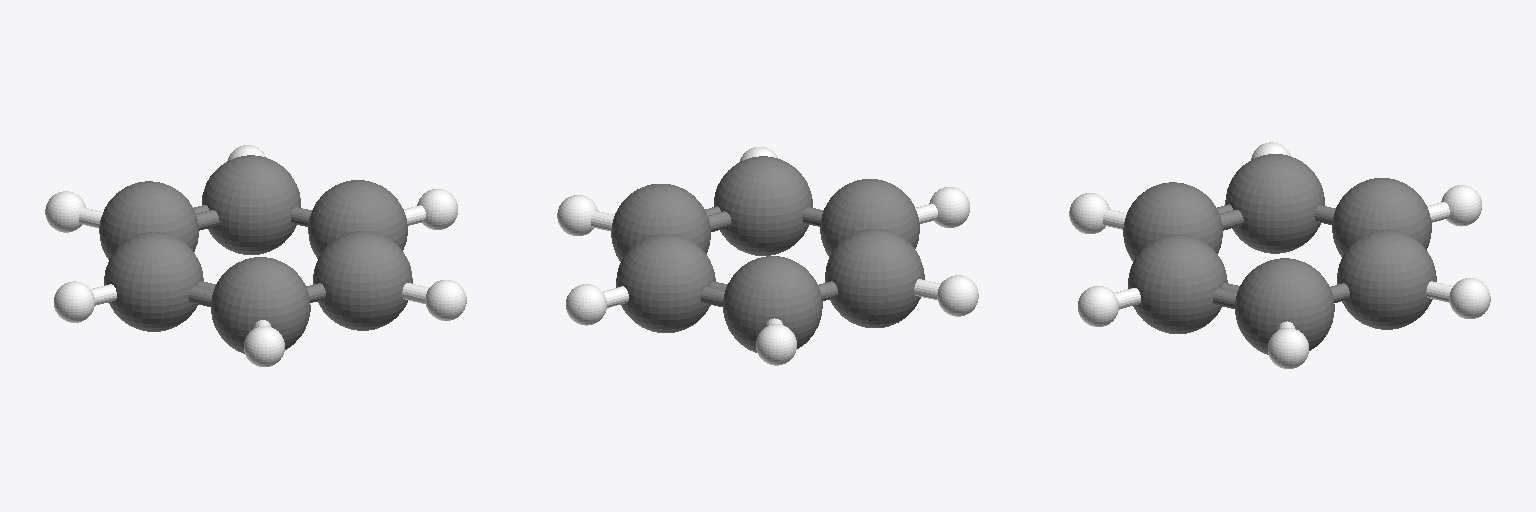
File: Benzine.obj
3 views of the same model, side by side, from view 1: azimuth 30°, elevation 25°; view 2: azimuth 150°, elevation 25°; view 3: azimuth 270°, elevation 25° (orthographic).
Visible parts, largest first — view 1: Carbon_ball.017, Hydrogen_ball.016, Hydrogen_sticks_cylinder.016, Carbon_sticks_cylinder.017; view 2: Carbon_ball.017, Hydrogen_ball.016, Hydrogen_sticks_cylinder.016, Carbon_sticks_cylinder.017; view 3: Carbon_ball.017, Hydrogen_ball.016, Hydrogen_sticks_cylinder.016, Carbon_sticks_cylinder.017.
Boxes of the visible parts, box(x1,y1,x2,y2) form: Carbon_ball.017: box(99, 155, 412, 353); Hydrogen_ball.016: box(45, 145, 466, 366); Hydrogen_sticks_cylinder.016: box(79, 205, 428, 327); Carbon_sticks_cylinder.017: box(188, 205, 325, 306); Carbon_ball.017: box(611, 156, 924, 352); Hydrogen_ball.016: box(557, 147, 978, 365); Hydrogen_sticks_cylinder.016: box(591, 203, 940, 326); Carbon_sticks_cylinder.017: box(700, 206, 837, 306); Carbon_ball.017: box(1123, 154, 1436, 354); Hydrogen_ball.016: box(1069, 142, 1490, 368); Hydrogen_sticks_cylinder.016: box(1103, 202, 1452, 329); Carbon_sticks_cylinder.017: box(1213, 204, 1349, 308).
Size of the model in its own units: 5.44 by 1.19 by 4.87.